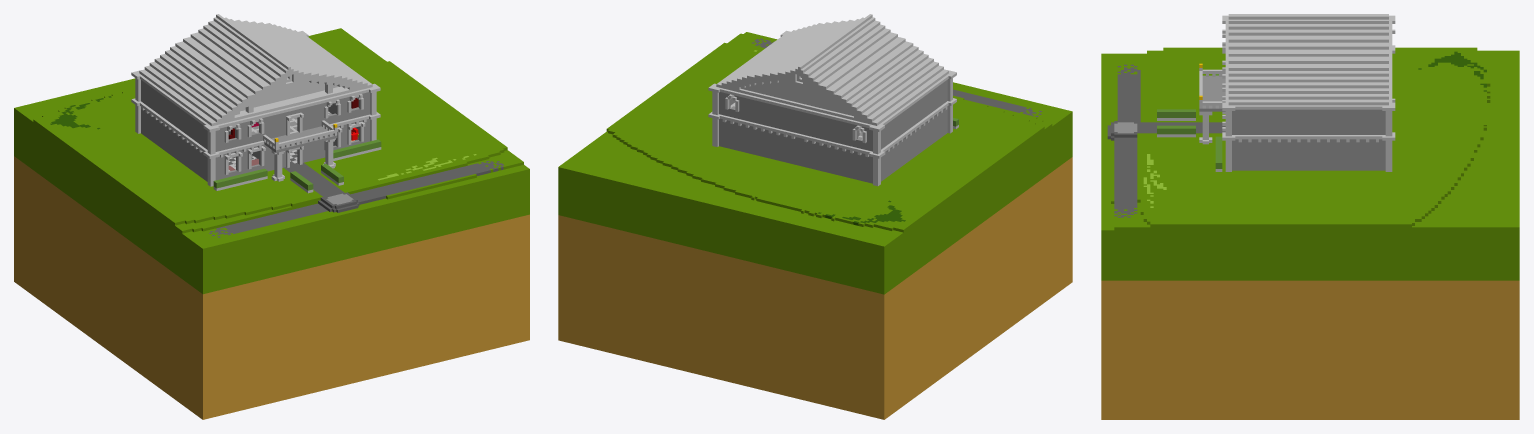
3 renders of one model, left to right at view 1: azimuth 30°, elevation 25°; view 2: azimuth 150°, elevation 25°; view 3: azimuth 270°, elevation 25°, orthographic. The views are drawn at different scales.
Parts seen in each view (by area): view 1: 3E; view 2: 3E; view 3: 3E.
Boxes of the visible parts, x1,y1,x2,y2 form: 3E: [14, 14, 529, 419]; 3E: [558, 14, 1072, 419]; 3E: [1101, 14, 1519, 419].
Bounding box in the file's own units: 12.8 × 10.3 × 12.8.
Materials: 1 (1 with a texture image).
